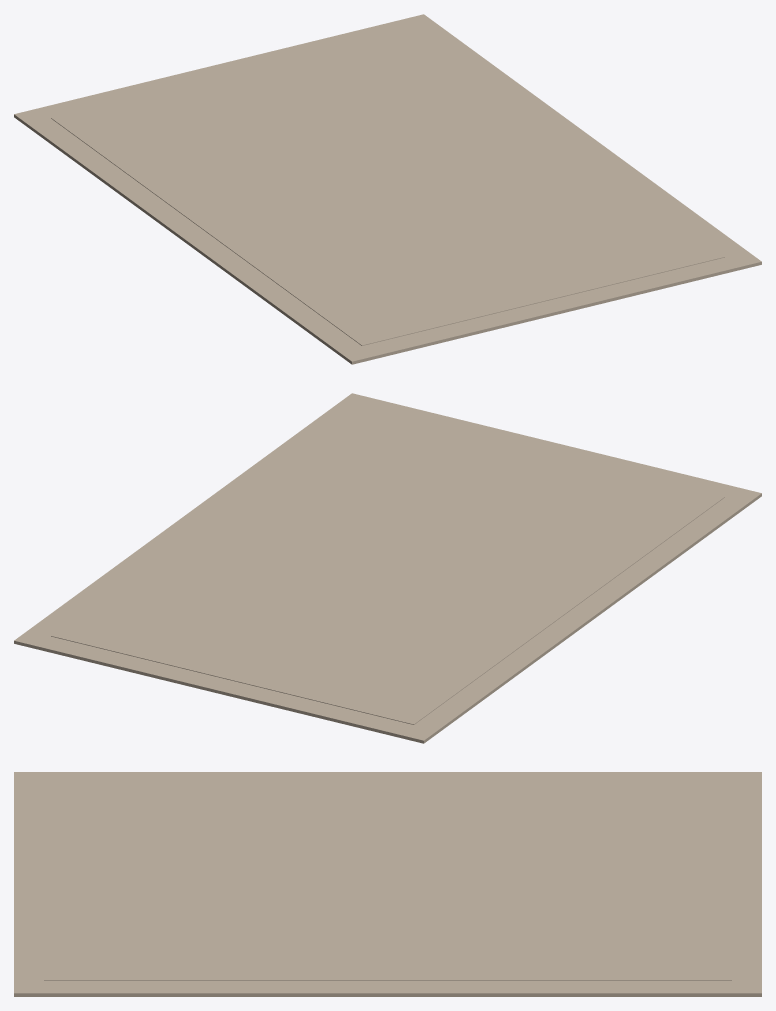
Rendered from rug-2000x1400.glb.
3 views of the same model, one above another, from view 1: azimuth 30°, elevation 25°; view 2: azimuth 150°, elevation 25°; view 3: azimuth 270°, elevation 25° (orthographic). The views are drawn at different scales.
Visible parts, largest first — view 1: rug-2000x1400; view 2: rug-2000x1400; view 3: rug-2000x1400.
Boxes of the visible parts, <box> form: rug-2000x1400: <box>14,14,761,364</box>; rug-2000x1400: <box>14,393,761,743</box>; rug-2000x1400: <box>14,772,761,996</box>.
Bounding box in the file's own units: 1.4 × 0.012 × 2.
